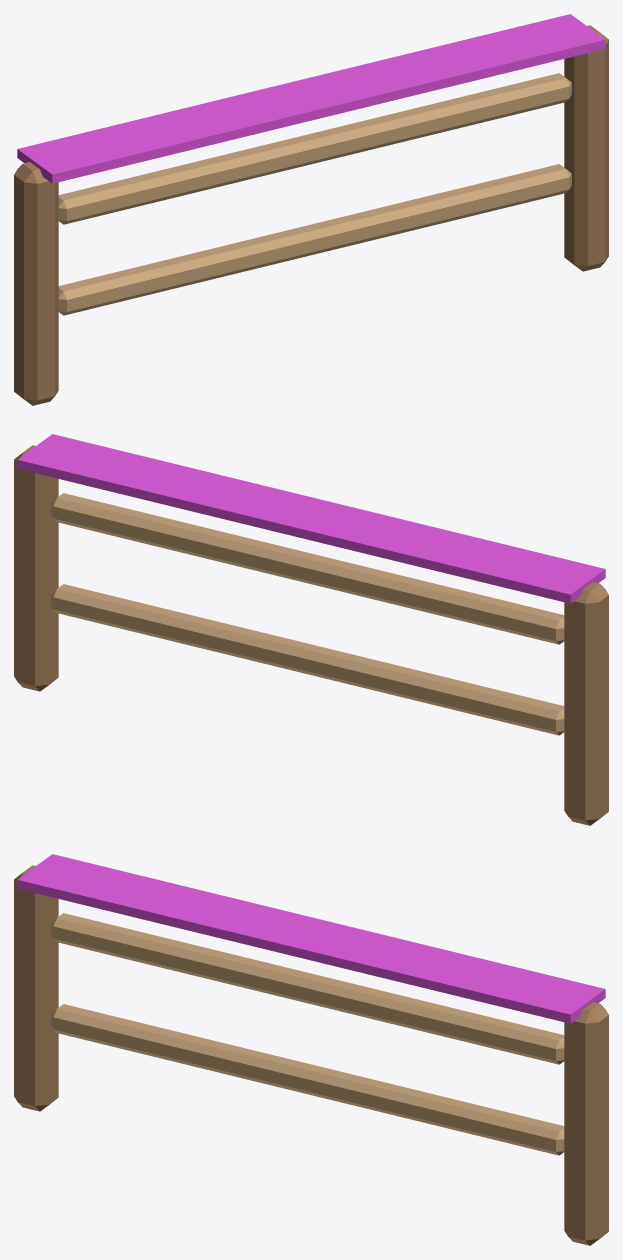
Rendered from rural_gate_lod2_v1.glb.
3 renders of one model, top to bottom at view 1: azimuth 30°, elevation 25°; view 2: azimuth 150°, elevation 25°; view 3: azimuth 330°, elevation 25°, orthographic.
Visible parts, largest first — view 1: NAV_MASK_RURAL_GATE, LOD2_RURAL_GATE_MidRail, LOD2_RURAL_GATE_TopRail, LOD2_RURAL_GATE_Post, LOD2_RURAL_GATE_Post.001; view 2: NAV_MASK_RURAL_GATE, LOD2_RURAL_GATE_MidRail, LOD2_RURAL_GATE_TopRail, LOD2_RURAL_GATE_Post, LOD2_RURAL_GATE_Post.001; view 3: NAV_MASK_RURAL_GATE, LOD2_RURAL_GATE_MidRail, LOD2_RURAL_GATE_TopRail, LOD2_RURAL_GATE_Post.001, LOD2_RURAL_GATE_Post.
Boxes of the visible parts, <box> form: NAV_MASK_RURAL_GATE: <box>17,14,605,183</box>; LOD2_RURAL_GATE_MidRail: <box>58,164,571,315</box>; LOD2_RURAL_GATE_TopRail: <box>58,73,571,224</box>; LOD2_RURAL_GATE_Post: <box>14,162,58,405</box>; LOD2_RURAL_GATE_Post.001: <box>564,25,608,271</box>; NAV_MASK_RURAL_GATE: <box>17,434,605,603</box>; LOD2_RURAL_GATE_MidRail: <box>51,584,564,735</box>; LOD2_RURAL_GATE_TopRail: <box>51,493,564,644</box>; LOD2_RURAL_GATE_Post: <box>564,582,608,825</box>; LOD2_RURAL_GATE_Post.001: <box>14,445,58,691</box>; NAV_MASK_RURAL_GATE: <box>17,854,605,1023</box>; LOD2_RURAL_GATE_MidRail: <box>51,1004,564,1155</box>; LOD2_RURAL_GATE_TopRail: <box>51,913,564,1064</box>; LOD2_RURAL_GATE_Post.001: <box>564,1002,608,1245</box>; LOD2_RURAL_GATE_Post: <box>14,865,58,1111</box>.
Size of what is drawn, in the model's own units: 4.04 by 1.57 by 0.42.
